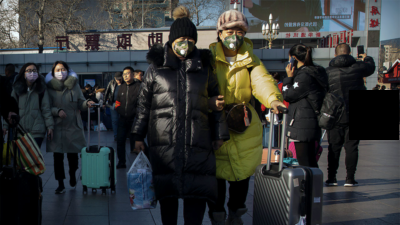with_mask: (220, 29, 245, 51), (172, 35, 194, 58), (54, 67, 68, 81), (24, 68, 38, 82)
without_mask: (122, 72, 133, 83)
